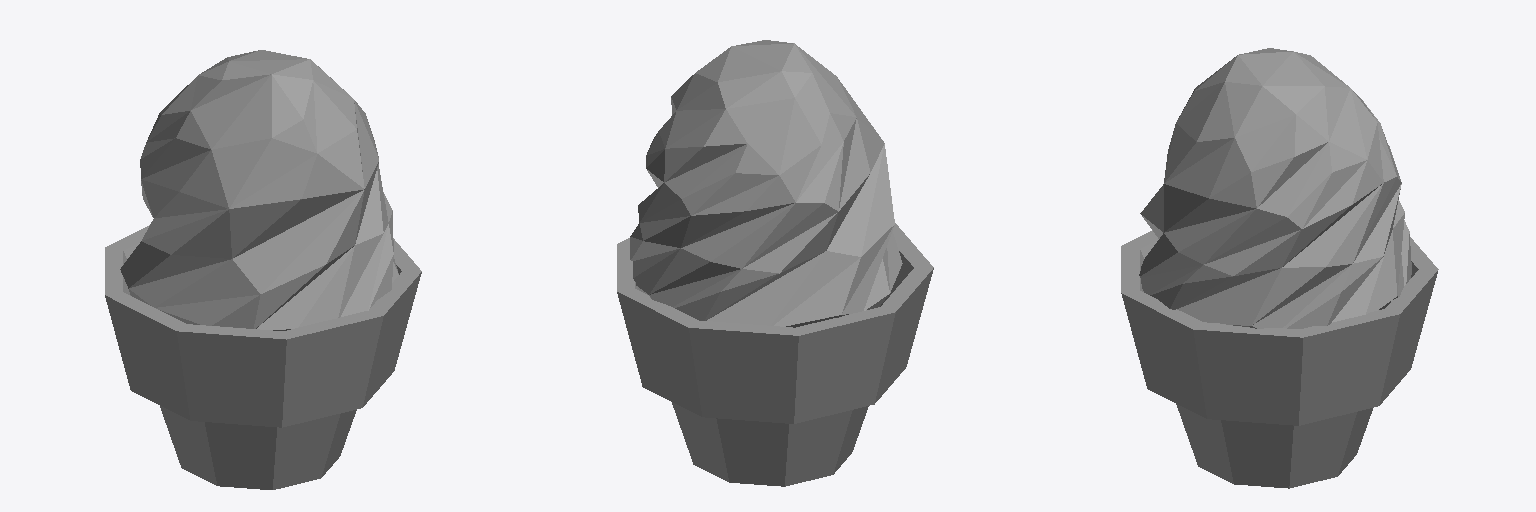
File: icecream.obj
3 views of the same model, side by side, from view 1: azimuth 30°, elevation 25°; view 2: azimuth 150°, elevation 25°; view 3: azimuth 270°, elevation 25° (orthographic).
Visible parts, largest first — view 1: Cone_Cone.003; view 2: Cone_Cone.003; view 3: Cone_Cone.003.
Boxes of the visible parts, <box> form: Cone_Cone.003: <box>105,50,421,489</box>; Cone_Cone.003: <box>617,40,933,486</box>; Cone_Cone.003: <box>1121,48,1438,488</box>.
Size of the model in its own units: 3.37 by 4.58 by 3.32.